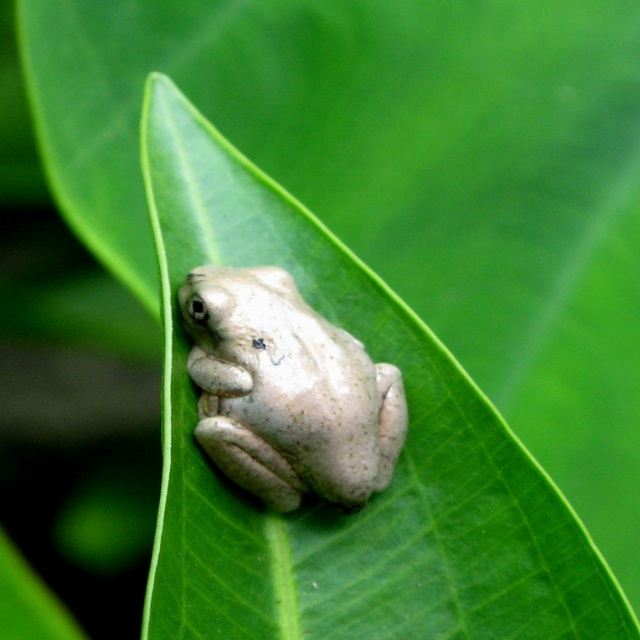Frog: (178, 260, 410, 516)
